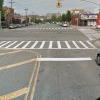Crosswalk: (2, 31, 94, 56)
